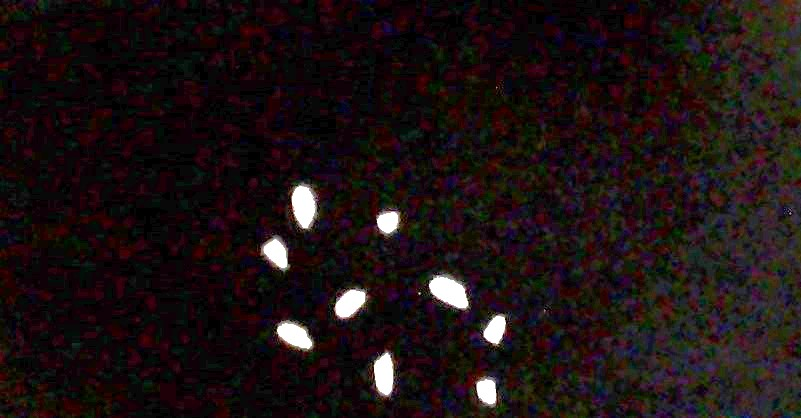broken_grain: (258, 234, 293, 272), (479, 309, 512, 349), (333, 283, 368, 320), (473, 374, 501, 411), (374, 208, 402, 240)
complete_grain: (427, 272, 473, 315), (289, 179, 320, 234), (273, 318, 319, 354), (370, 347, 397, 403)
